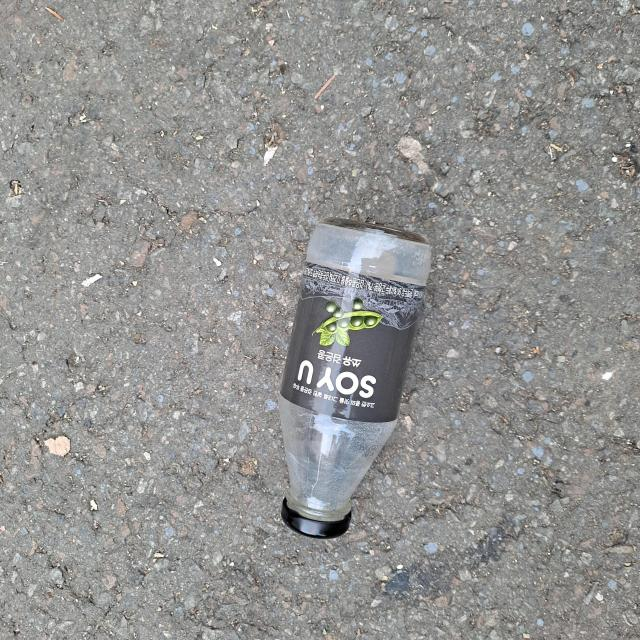glass: (279, 218, 432, 539)
